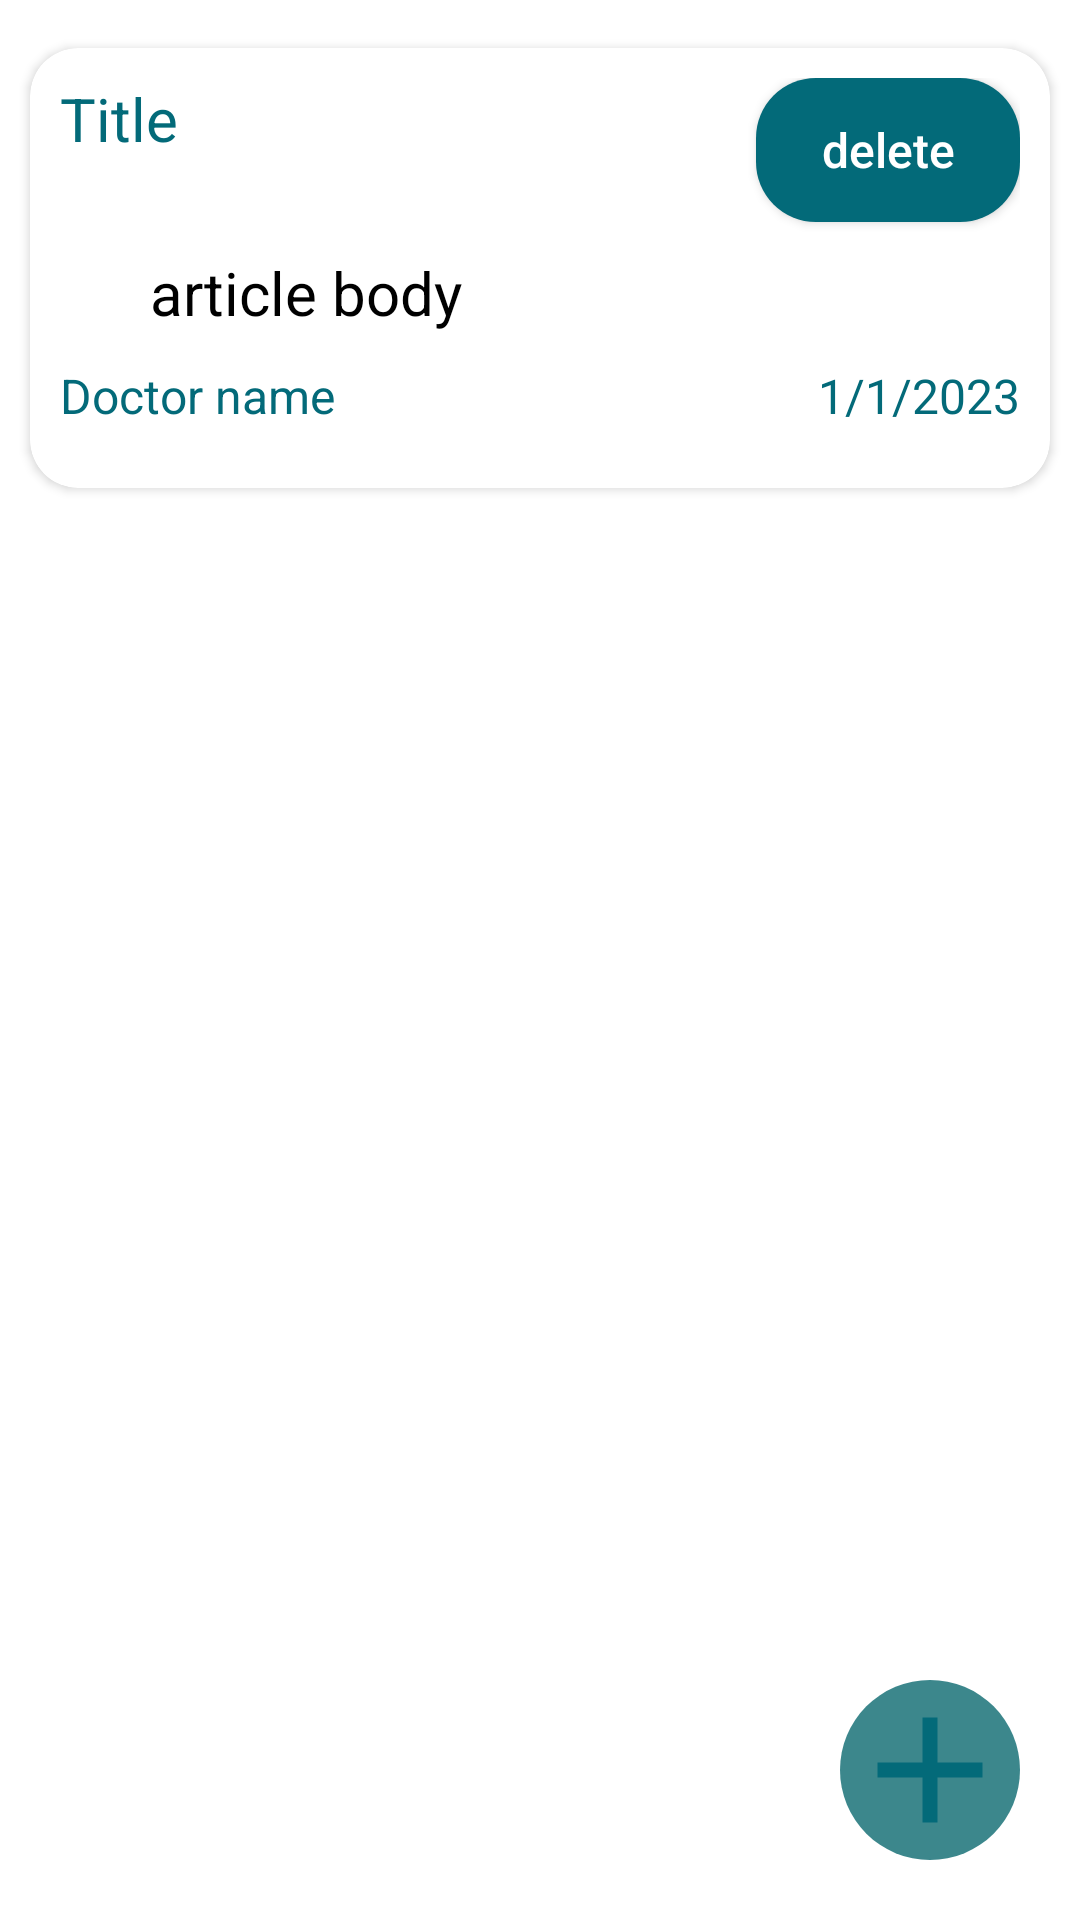

Icon click points for this 1080 × 1920 phone screenshot, format [x,y]:
add: [930,1770]
